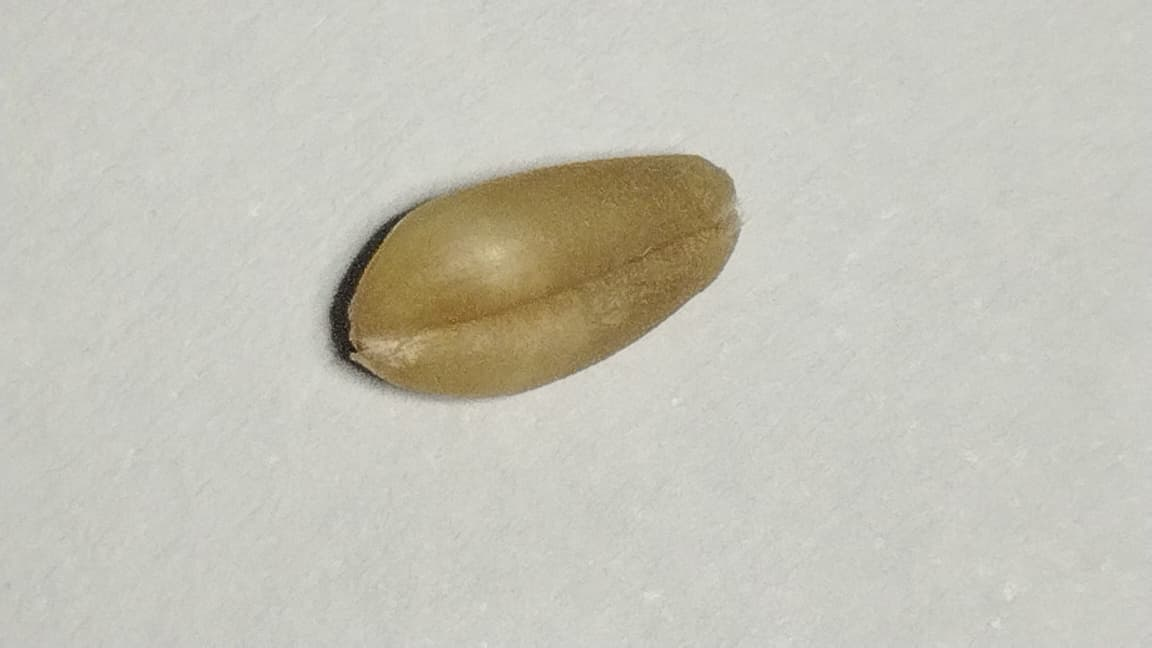healthy: (350, 155, 737, 390)
